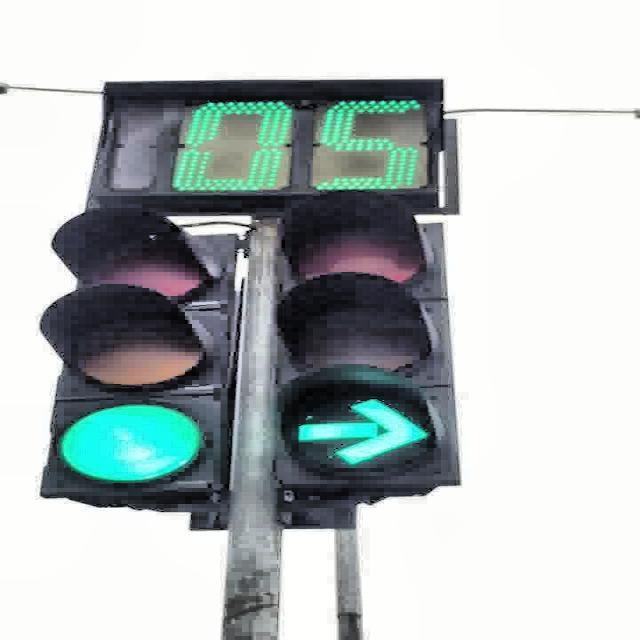green: (264, 190, 460, 486), (38, 204, 236, 496)
